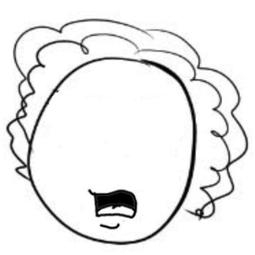open_mouth: (85, 180, 140, 220)
